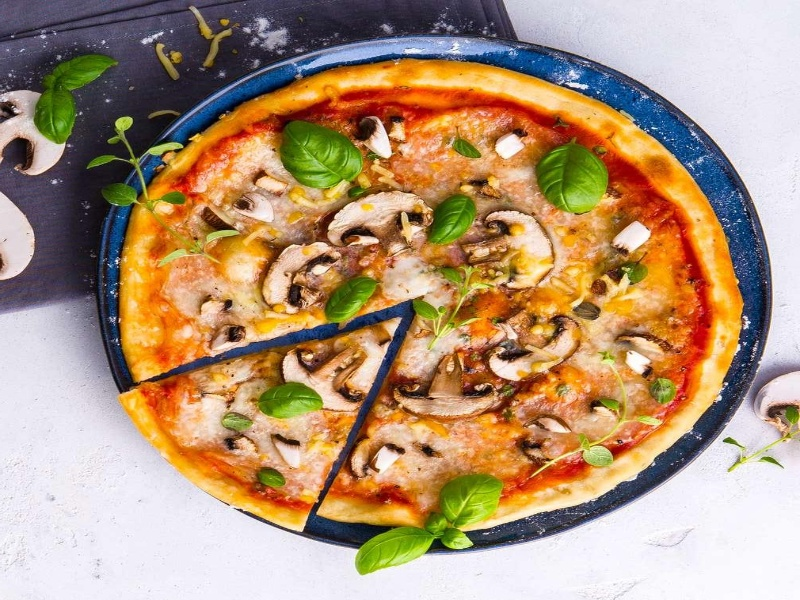champignon: (385, 343, 505, 429), (460, 205, 557, 292), (486, 314, 590, 390), (274, 336, 374, 414), (323, 190, 436, 259), (256, 240, 340, 314)
